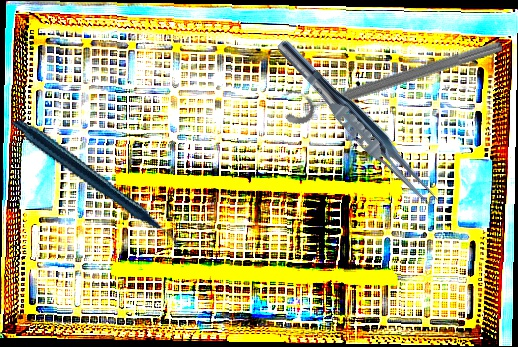Fixation Ring: (277, 21, 506, 129)
Handpiece: (11, 86, 179, 286)
Tissue Forceps: (268, 34, 449, 215)
